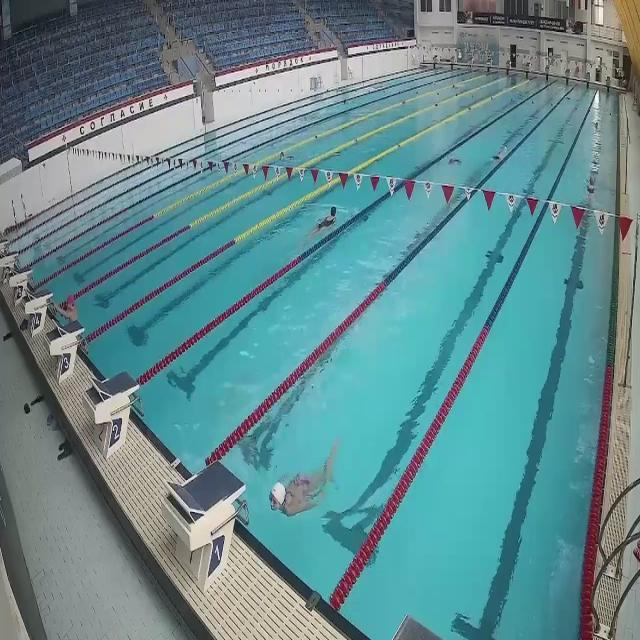Swimming: (269, 438, 346, 516), (310, 206, 338, 238)
